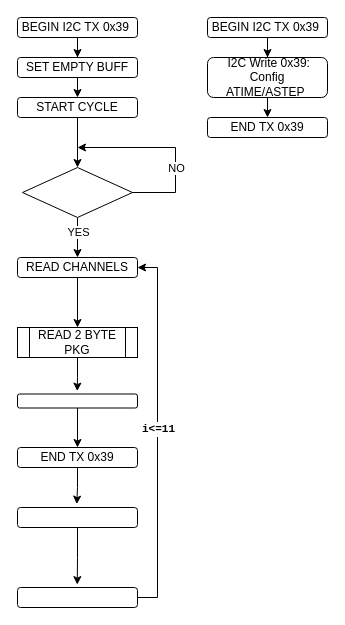
Image size: 345x625. Some labels were removed from this diagram. Here are the shapes that lost their labels. From the top down, the box of each, then its label:
(22, 166, 132, 218): ASTATUS = 1?
(16, 393, 138, 408): CONVERT DATA
(16, 506, 138, 528): SAVE DATA
(16, 586, 138, 608): END
